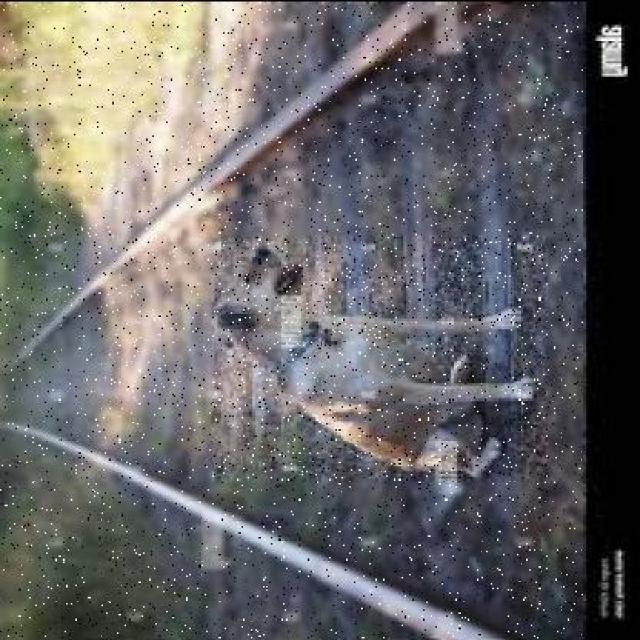rail: (1, 4, 584, 638)
